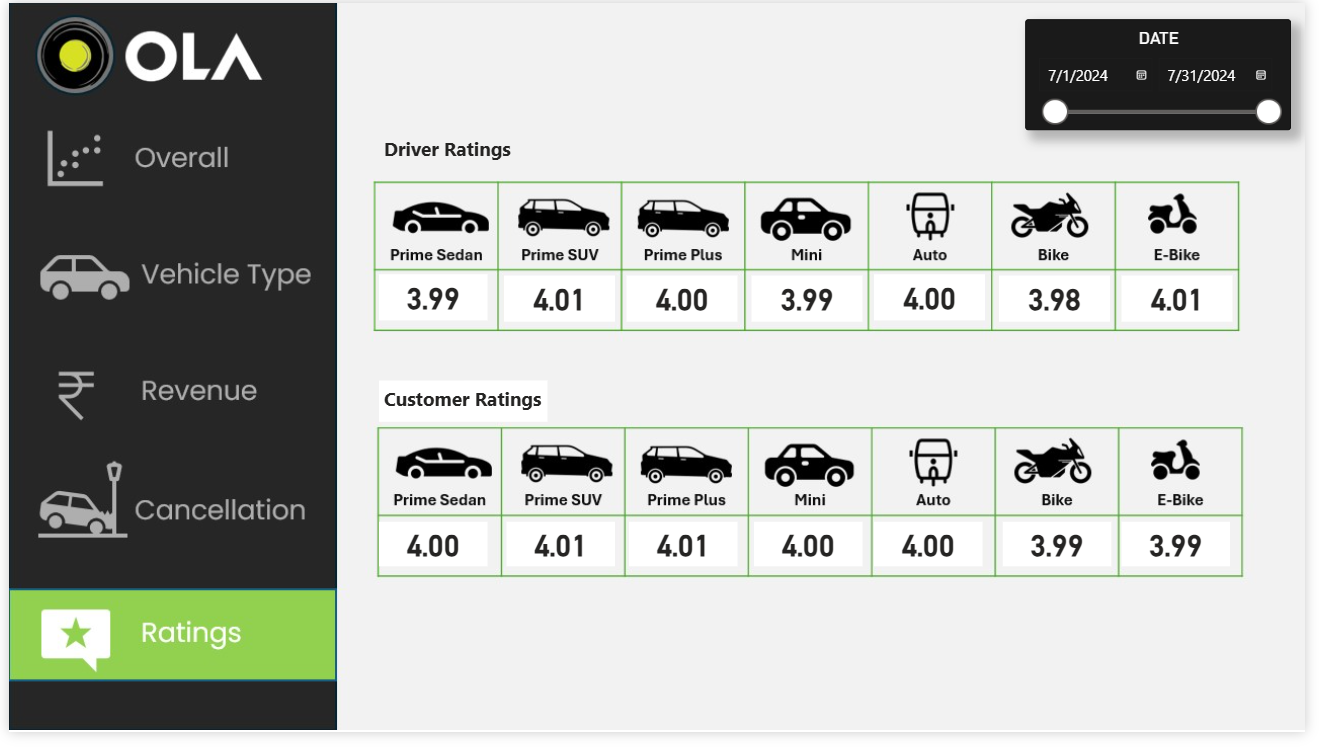

What the dashboard file says about the page in this screenshot:
{"tool":"powerbi","page":{"name":"Ratings","canvas":[1280,720],"ordinal":4},"visuals":[{"type":"actionButton","box":[0,111.8,324.8,91.7],"z":0},{"type":"actionButton","box":[0,338.5,324.8,91.7],"z":1000},{"type":"actionButton","box":[0,448.2,324.8,91.7],"z":2000},{"type":"actionButton","box":[0,221.4,324.8,91.7],"z":3000},{"type":"card","fields":{"Values":["Avg(July.Driver_Ratings)"]},"box":[365,267.6,107,45.3],"z":4000},{"type":"card","fields":{"Values":["Avg(July.Driver_Ratings)"]},"box":[488.5,269,109.8,45.3],"z":5000},{"type":"card","fields":{"Values":["Avg(July.Driver_Ratings)"]},"box":[609.3,269,109.8,45.3],"z":6000},{"type":"card","fields":{"Values":["Avg(July.Driver_Ratings)"]},"box":[732.8,269,109.8,45.3],"z":7000},{"type":"card","fields":{"Values":["Avg(July.Driver_Ratings)"]},"box":[854.9,267.6,109.8,45.3],"z":8000},{"type":"card","fields":{"Values":["Avg(July.Driver_Ratings)"]},"box":[978.4,269,109.8,45.3],"z":9000},{"type":"card","fields":{"Values":["Avg(July.Driver_Ratings)"]},"box":[1099.1,269,109.8,45.3],"z":10000},{"type":"card","fields":{"Values":["Avg(July.Customer_Rating)"]},"box":[365,511.8,107,43.9],"z":11000},{"type":"card","fields":{"Values":["Avg(July.Driver_Ratings)"]},"box":[491.3,511.8,107,43.9],"z":12000},{"type":"textbox","box":[365,126.2,156.4,43.9],"z":13000},{"type":"textbox","box":[365,373.2,166,41.2],"z":14000},{"type":"card","fields":{"Values":["Avg(July.Customer_Rating)"]},"box":[612,511.8,107,43.9],"z":15000},{"type":"card","fields":{"Values":["Avg(July.Customer_Rating)"]},"box":[735.5,511.8,107,43.9],"z":16000},{"type":"card","fields":{"Values":["Avg(July.Customer_Rating)"]},"box":[854.9,511.8,107,43.9],"z":17000},{"type":"card","fields":{"Values":["Avg(July.Customer_Rating)"]},"box":[981.1,511.8,107,43.9],"z":18000},{"type":"card","fields":{"Values":["Avg(July.Customer_Rating)"]},"box":[1099.1,511.8,107,43.9],"z":19000},{"type":"slicer","title":"DATE","fields":{"Values":["July.Date"]},"box":[1003.1,16.5,262.1,109.8],"z":19001}]}

Visuals, with their boxes in screenshot pixels (x1, y1, x2, y2):
actionButton: l=3, t=62, r=333, b=155
actionButton: l=3, t=292, r=333, b=386
actionButton: l=3, t=404, r=333, b=497
actionButton: l=3, t=173, r=333, b=267
card - Avg(July.Driver_Ratings): l=374, t=220, r=483, b=266
card - Avg(July.Driver_Ratings): l=500, t=222, r=611, b=268
card - Avg(July.Driver_Ratings): l=623, t=222, r=734, b=268
card - Avg(July.Driver_Ratings): l=748, t=222, r=860, b=268
card - Avg(July.Driver_Ratings): l=872, t=220, r=984, b=266
card - Avg(July.Driver_Ratings): l=998, t=222, r=1109, b=268
card - Avg(July.Driver_Ratings): l=1120, t=222, r=1232, b=268
card - Avg(July.Customer_Rating): l=374, t=469, r=483, b=513
card - Avg(July.Driver_Ratings): l=503, t=469, r=611, b=513
textbox: l=374, t=77, r=533, b=121
textbox: l=374, t=328, r=543, b=370
card - Avg(July.Customer_Rating): l=625, t=469, r=734, b=513
card - Avg(July.Customer_Rating): l=751, t=469, r=860, b=513
card - Avg(July.Customer_Rating): l=872, t=469, r=981, b=513
card - Avg(July.Customer_Rating): l=1000, t=469, r=1109, b=513
card - Avg(July.Customer_Rating): l=1120, t=469, r=1229, b=513
"DATE" slicer: l=1023, t=0, r=1289, b=77
